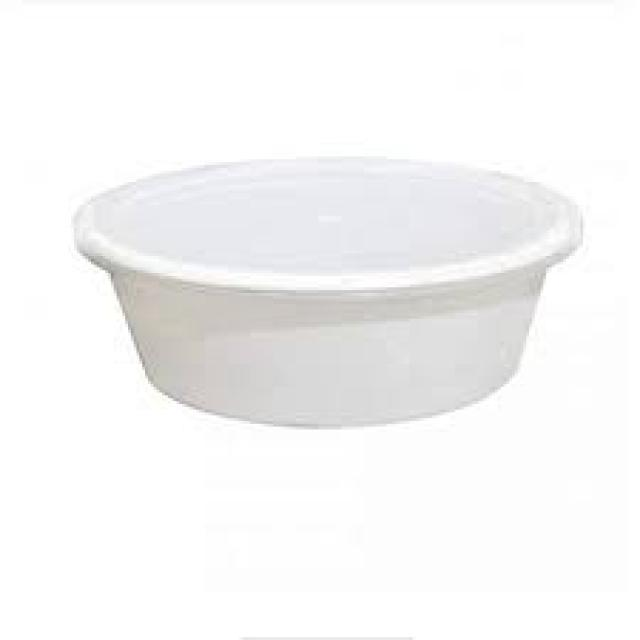disposable: (77, 132, 586, 444)
